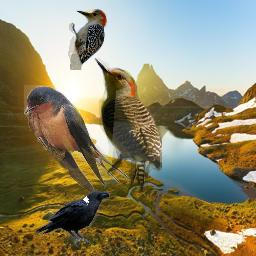Crow: (35, 191, 110, 245)
Swallow: (24, 85, 130, 192)
Woodpecker: (94, 58, 162, 192), (68, 6, 115, 70)
